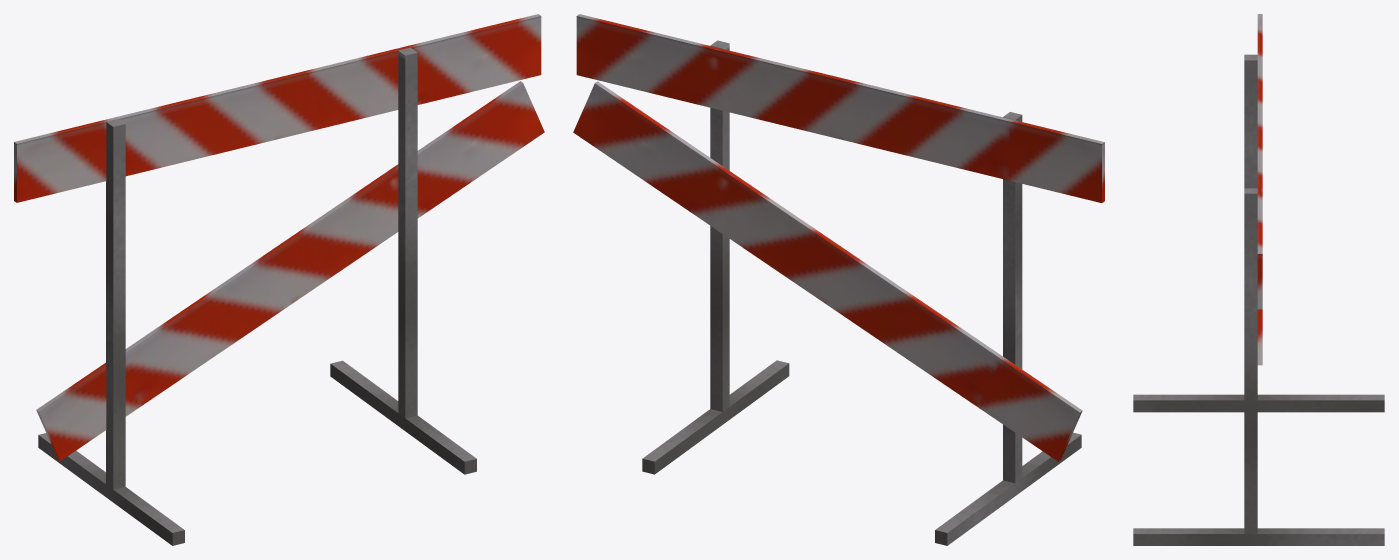
File: Urban_Type3BarrierBrokenPlanks_Model.fbx
3 views of the same model, side by side, from view 1: azimuth 30°, elevation 25°; view 2: azimuth 150°, elevation 25°; view 3: azimuth 270°, elevation 25° (orthographic). The views are drawn at different scales.
Parts seen in each view (by area): view 1: Urban_Type3BarrierBrokenPlanks_Mesh; view 2: Urban_Type3BarrierBrokenPlanks_Mesh; view 3: Urban_Type3BarrierBrokenPlanks_Mesh.
Boxes of the visible parts, <box> form: Urban_Type3BarrierBrokenPlanks_Mesh: <box>14,14,544,545</box>; Urban_Type3BarrierBrokenPlanks_Mesh: <box>573,14,1104,545</box>; Urban_Type3BarrierBrokenPlanks_Mesh: <box>1133,14,1384,545</box>.
Bounding box in the file's own units: 2.2 × 1.49 × 0.967.
